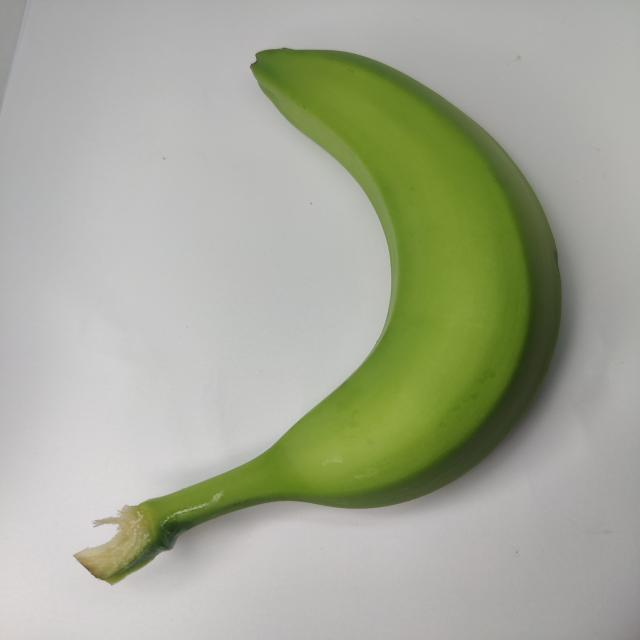raw: (38, 13, 593, 595)
